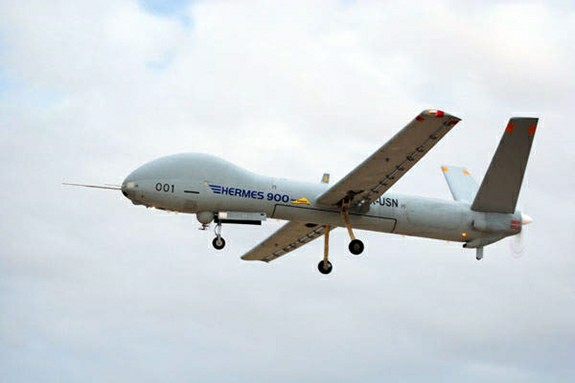maybay_khongnguoilai: (117, 106, 541, 273)
